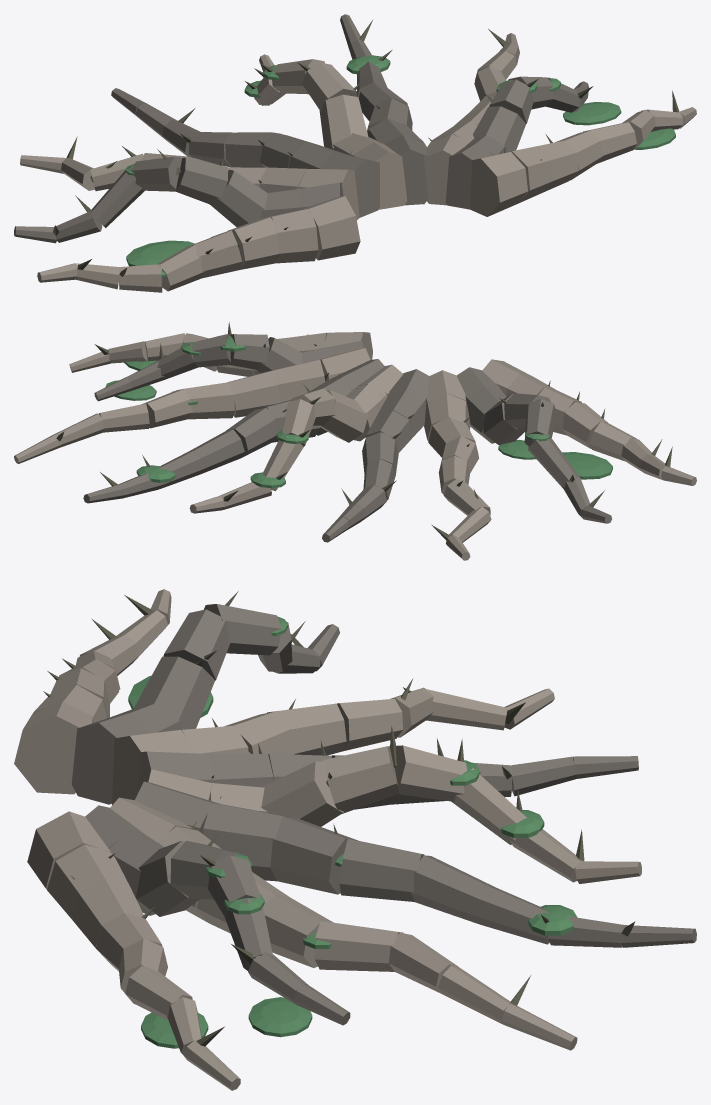
Rendered from spawn_roots.glb.
The picture shows the model from 3 angles, top to bottom: view 1: azimuth 30°, elevation 25°; view 2: azimuth 150°, elevation 25°; view 3: azimuth 270°, elevation 25°; orthographic projection. The views are drawn at different scales.
Visible parts, largest first — view 1: spawn_roots; view 2: spawn_roots; view 3: spawn_roots.
Boxes of the visible parts, box(x1,y1,x2,y2) form: spawn_roots: box(14, 14, 696, 292); spawn_roots: box(14, 322, 696, 560); spawn_roots: box(14, 589, 696, 1090).
Size of the model in its own units: 11.66 by 1.59 by 7.25.
